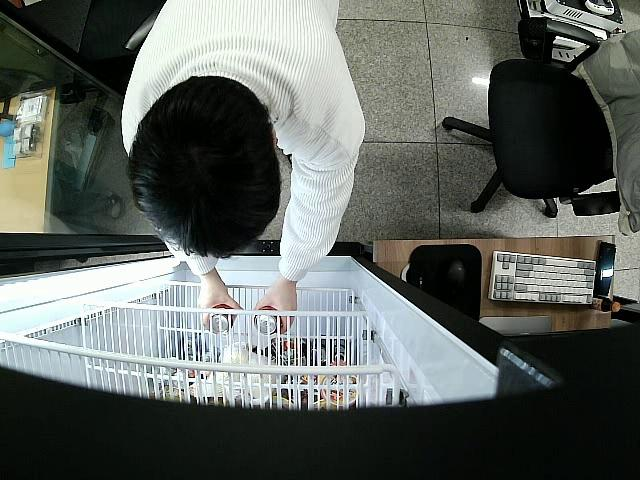00_hand: (194, 277, 243, 333), (255, 283, 295, 335)
11_cocaColaZero: (255, 303, 283, 336), (207, 305, 237, 333)
